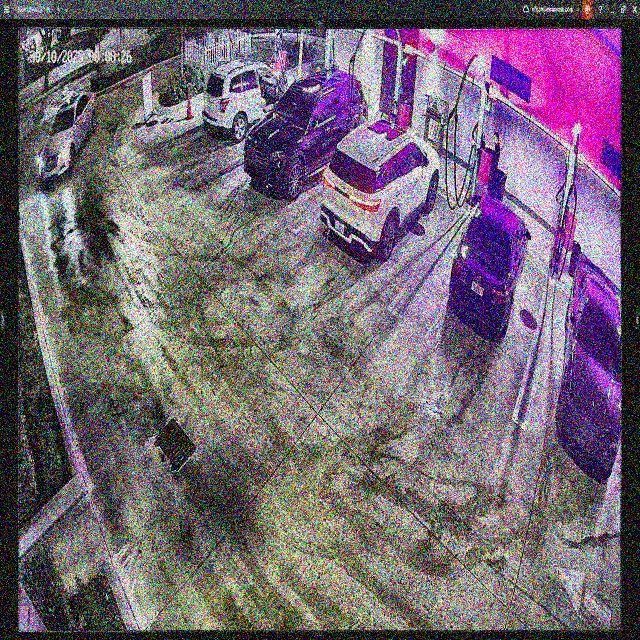Car: (242, 67, 368, 199), (327, 115, 439, 262), (449, 193, 529, 339)
